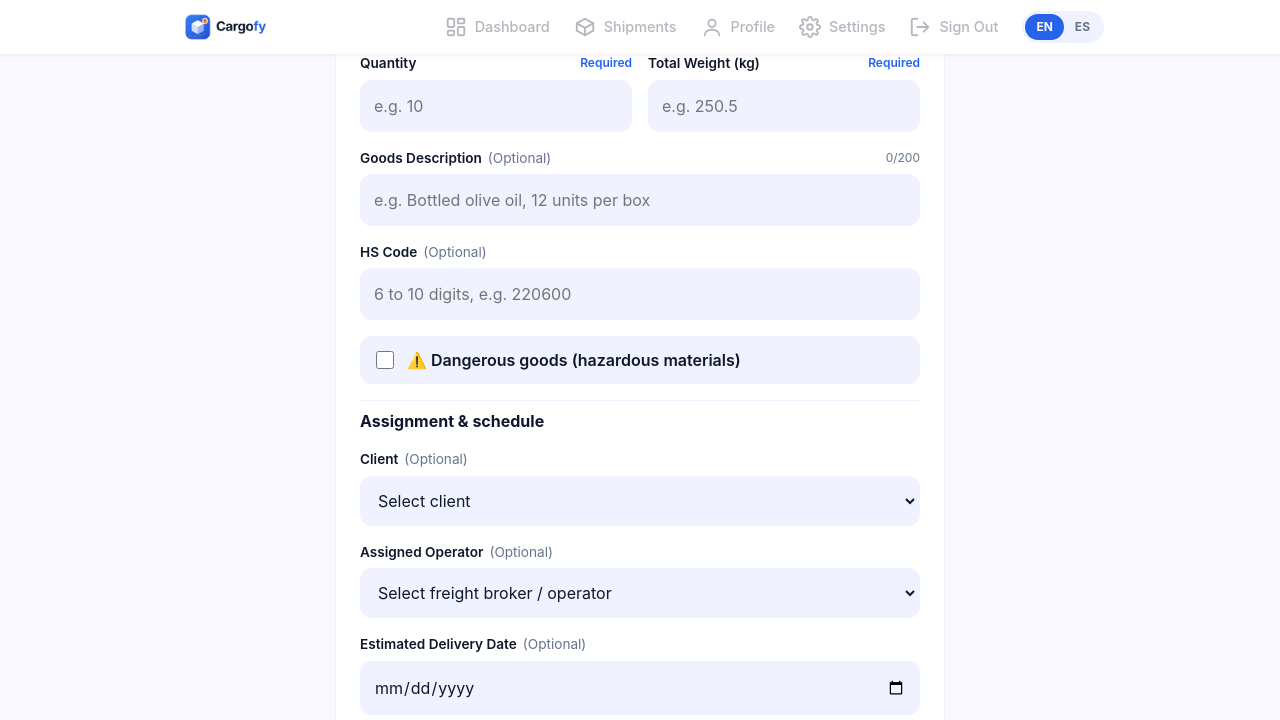
Scenario: NewShipmentView › shows a warning only when dangerous goods is checked
(page scrolled)
Step 1. Click the checkbox with id "dangerousGoods" → (385, 360), box [376,351,394,369]
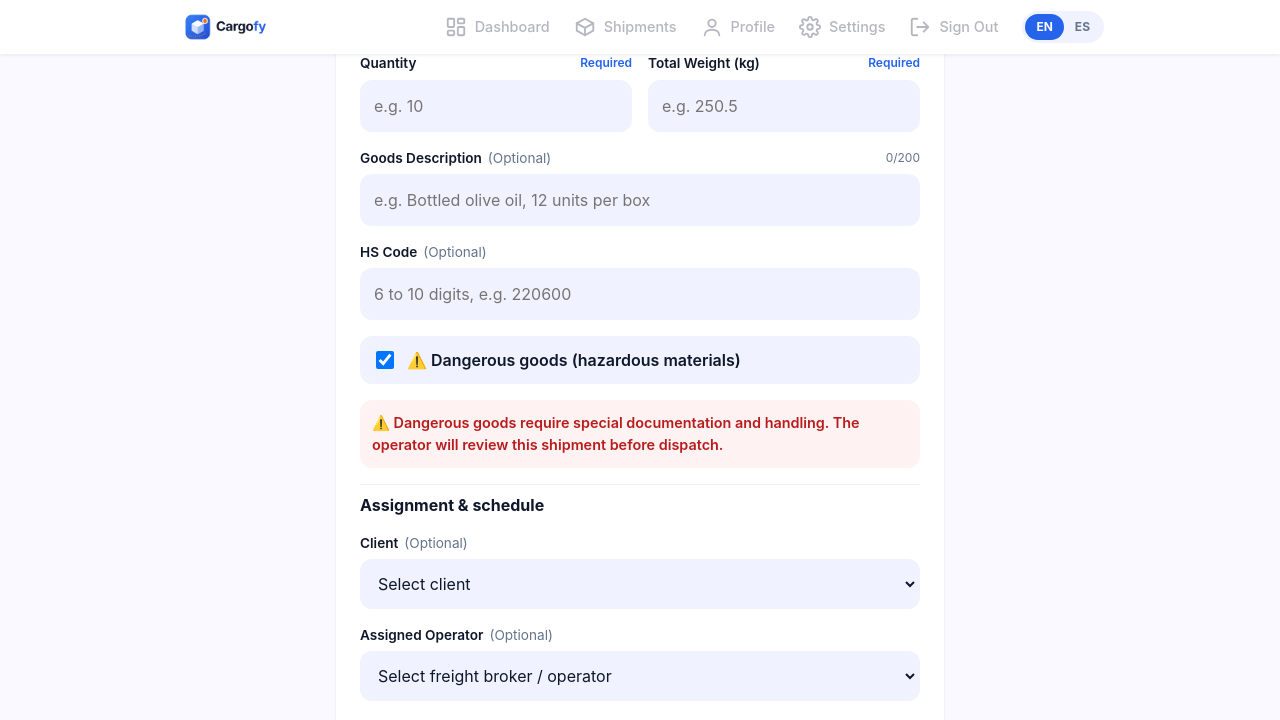
Check: the message with class "new__warning" shows "Dangerous goods require", box [372,414,860,453]
